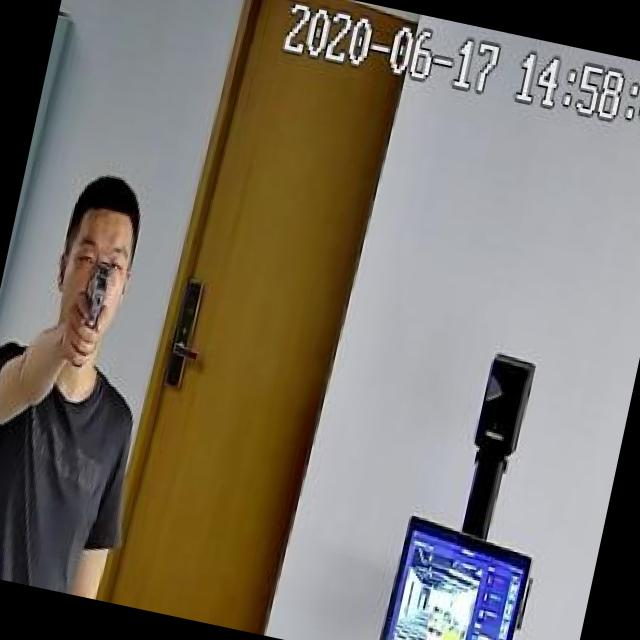Guns: (54, 250, 140, 379)
